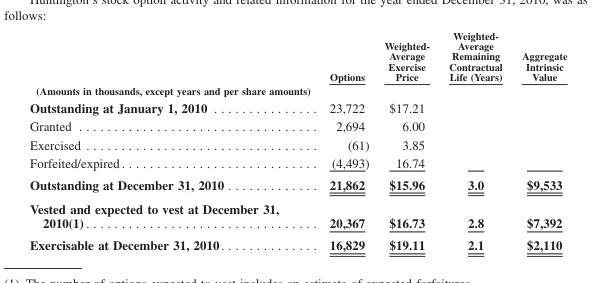table: (28, 28, 566, 252)
table column: (28, 28, 303, 252), (303, 28, 376, 252), (438, 28, 511, 252), (376, 28, 438, 252), (511, 28, 566, 252)
table column header: (28, 28, 566, 83)
table projected row header: (28, 83, 566, 98)
table row: (28, 28, 566, 83), (28, 196, 566, 233), (28, 172, 566, 196), (28, 116, 566, 135), (28, 153, 566, 172), (28, 233, 566, 252), (28, 98, 566, 116), (28, 135, 566, 153), (28, 83, 566, 98)
